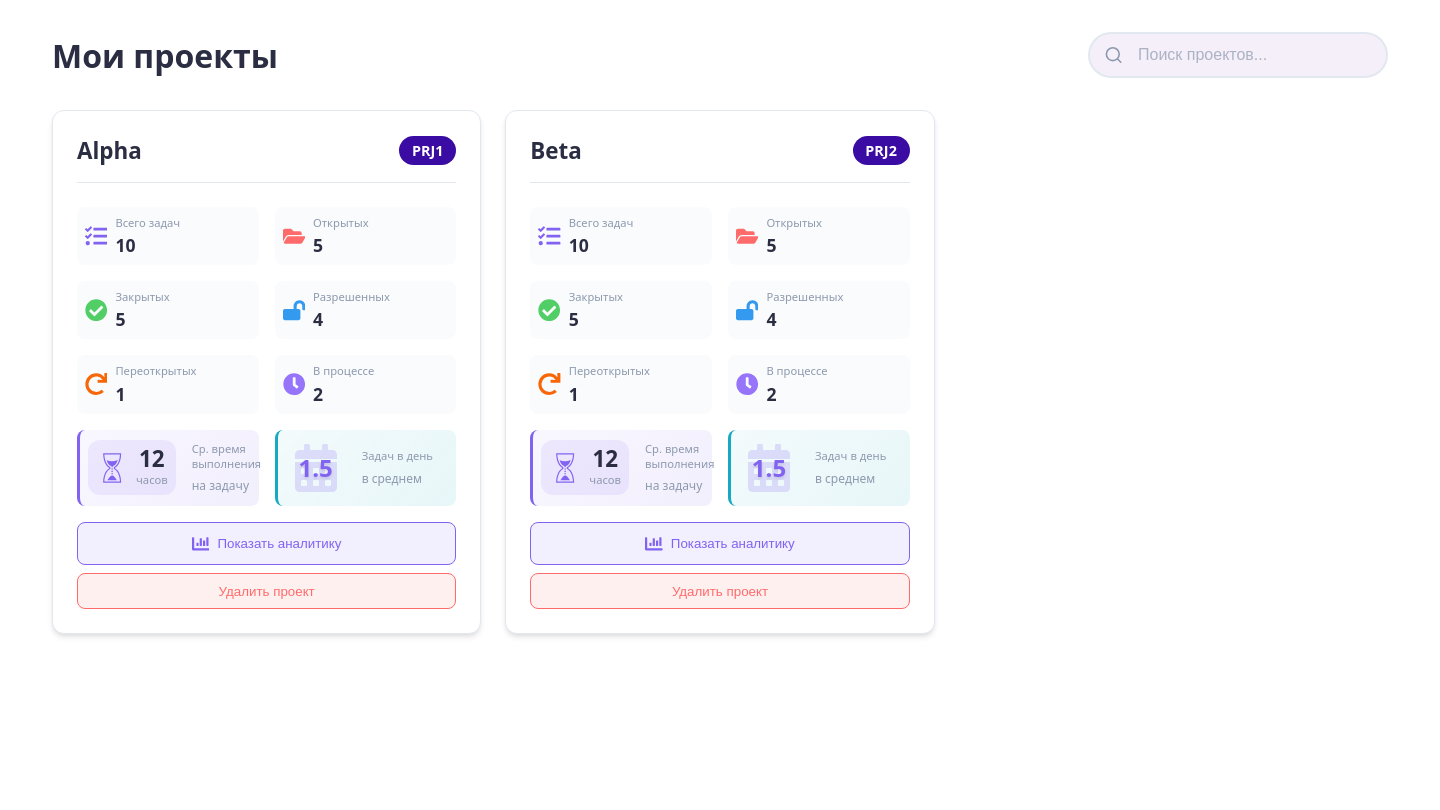
Test case: MyProjectsPage › фильтрация по поиску
The width and height of the screenshot is (1440, 810).
Expected: the heading "Alpha" is shown, [77,135,142,166]
Type "Beta" into the field with placeholder "Поиск проектов..." at (1238, 55), box [1088,32,1388,78]
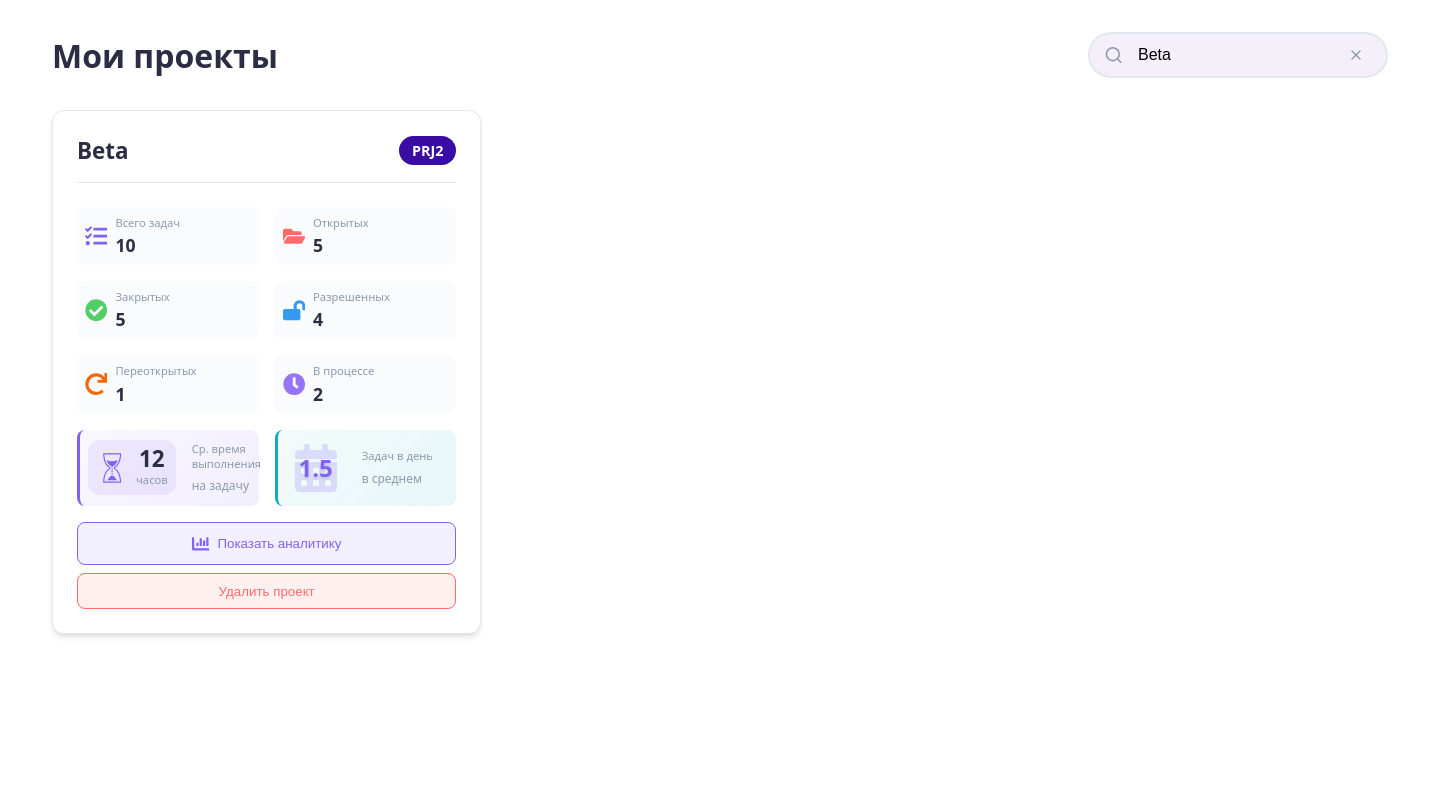
Expected: the heading "Beta" is shown, [77,135,128,166]
Now the heading "Alpha" is gone
